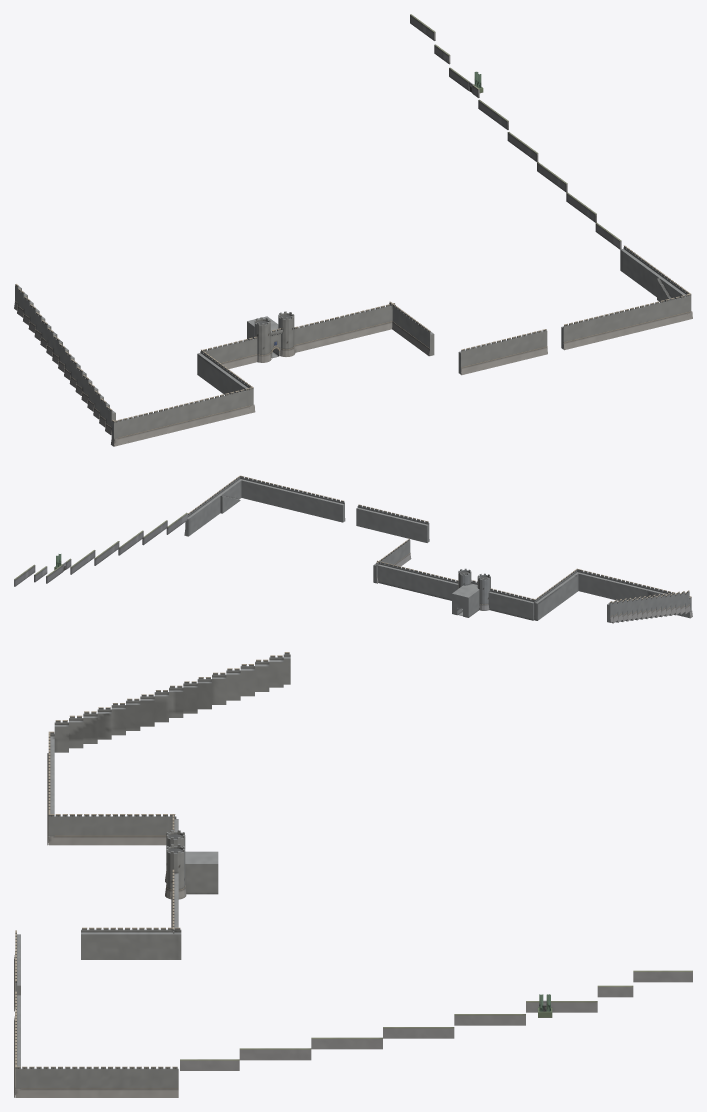
File: wall.glb
3 renders of one model, top to bottom at view 1: azimuth 30°, elevation 25°; view 2: azimuth 150°, elevation 25°; view 3: azimuth 270°, elevation 25°, orthographic. The views are drawn at different scales.
Visible parts, largest first — view 1: tower_drum_8.001, tower_drum_8.002; view 2: gate_passage_16.001, tower_drum_8.001; view 3: gate_passage_16.001, tower_drum_8.002, judiaria_boundary_2, judiaria_boundary_3, judiaria_boundary_4, judiaria_boundary_5, judiaria_boundary_9, judiaria_boundary_1.
Part boxes in pixels (left/top/right/bottom): tower_drum_8.001: left=254, top=317, right=271, bottom=362; tower_drum_8.002: left=278, top=311, right=295, bottom=356; gate_passage_16.001: left=452, top=585, right=479, bottom=617; tower_drum_8.001: left=477, top=573, right=490, bottom=610; gate_passage_16.001: left=185, top=851, right=218, bottom=894; tower_drum_8.002: left=165, top=844, right=186, bottom=899; judiaria_boundary_2: left=239, top=1048, right=311, bottom=1060; judiaria_boundary_3: left=311, top=1037, right=382, bottom=1049; judiaria_boundary_4: left=383, top=1027, right=454, bottom=1038; judiaria_boundary_5: left=454, top=1014, right=525, bottom=1025; judiaria_boundary_9: left=633, top=970, right=692, bottom=982; judiaria_boundary_1: left=180, top=1059, right=239, bottom=1070.
Size of the model in its own units: 337 by 57.7 by 285.
